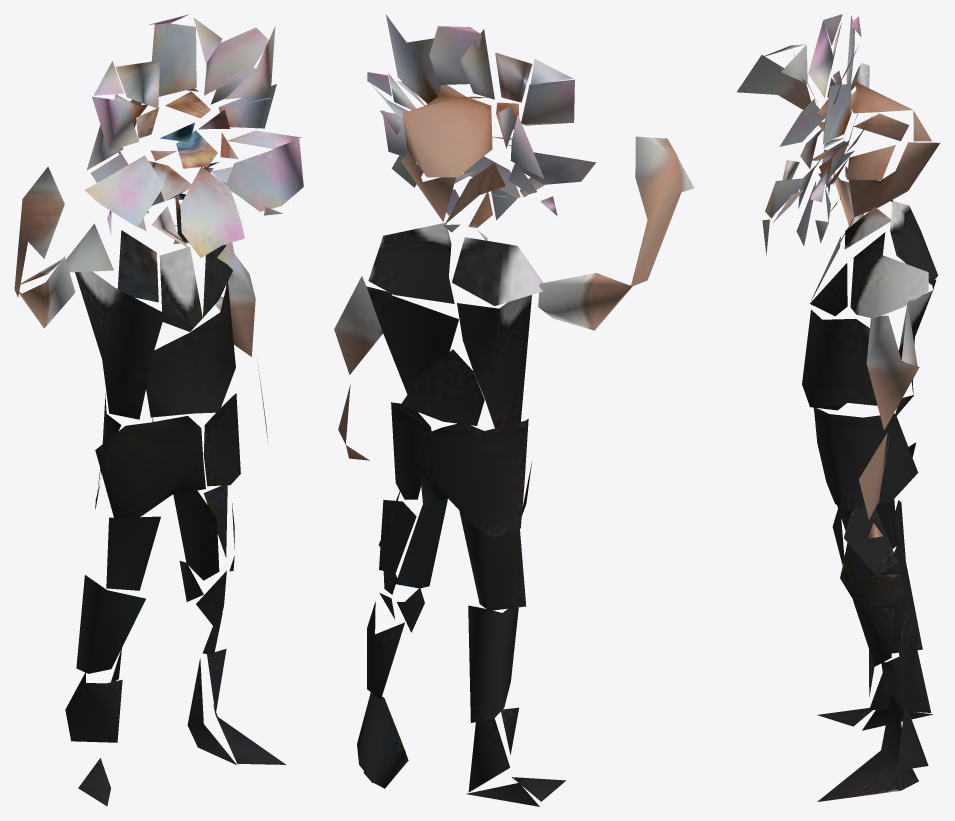
The model's file is crowd_bartender_lite.glb.
3 views of the same model, side by side, from view 1: azimuth 30°, elevation 25°; view 2: azimuth 150°, elevation 25°; view 3: azimuth 270°, elevation 25° (orthographic). The views are drawn at different scales.
Visible parts, largest first — view 1: tripo_node_8f611393-628a-4c04-9a16-76a25f729728; view 2: tripo_node_8f611393-628a-4c04-9a16-76a25f729728; view 3: tripo_node_8f611393-628a-4c04-9a16-76a25f729728.
Boxes of the visible parts, x1,y1,x2,y2 form: tripo_node_8f611393-628a-4c04-9a16-76a25f729728: [14, 14, 303, 805]; tripo_node_8f611393-628a-4c04-9a16-76a25f729728: [334, 14, 694, 806]; tripo_node_8f611393-628a-4c04-9a16-76a25f729728: [737, 14, 939, 801].
Bounding box in the file's own units: 0.7552 × 1.84 × 0.4608.
Materials: 1 (1 with a texture image).
